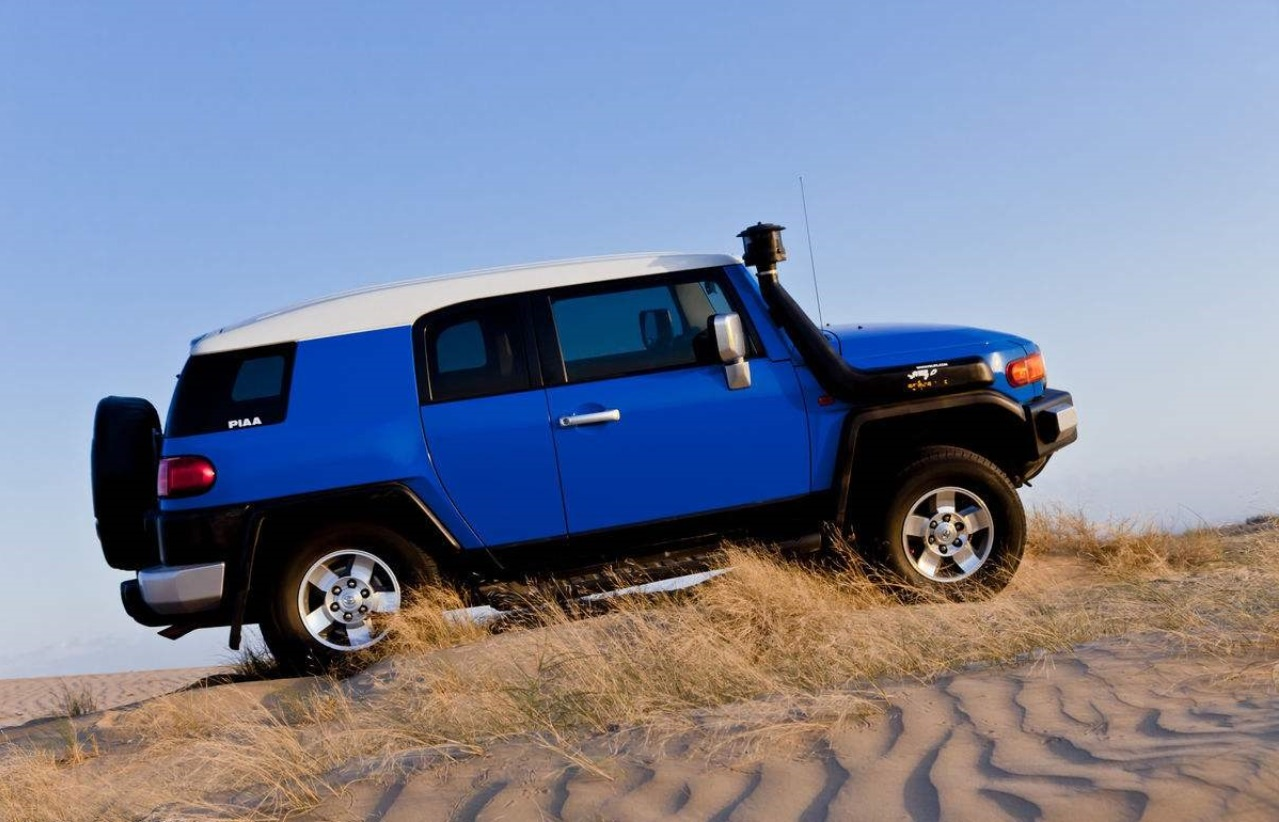jeep: (70, 196, 1081, 655)
